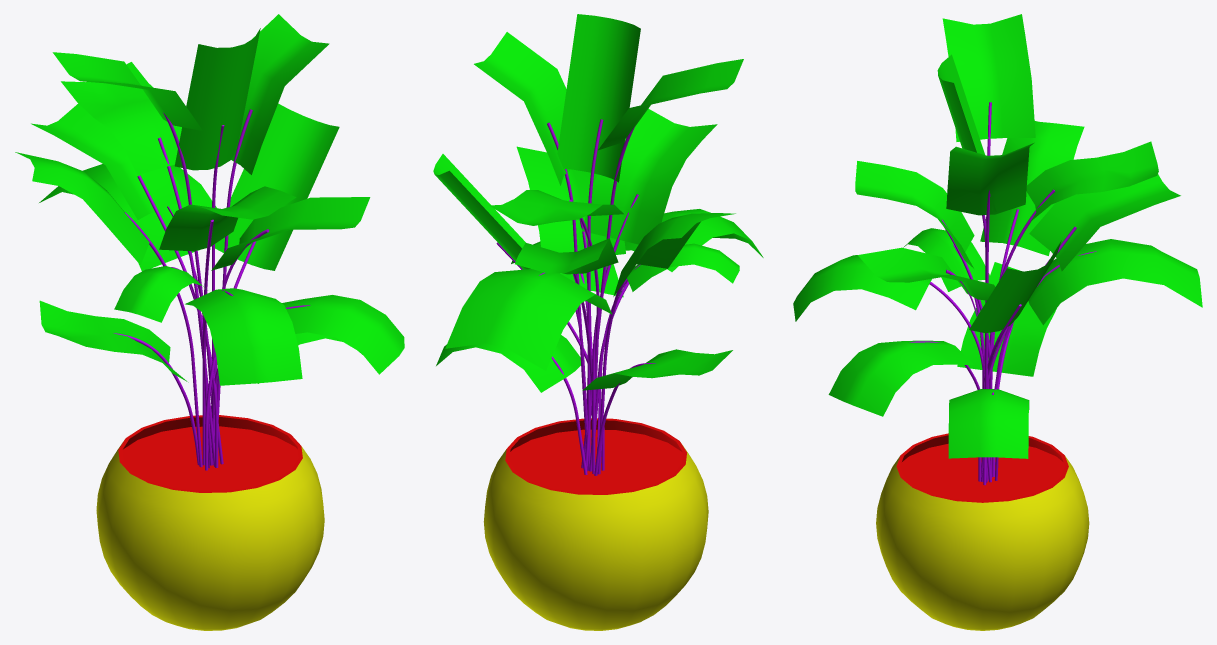
The model's file is G_Plant.fbx.
The picture shows the model from 3 angles, left to right: view 1: azimuth 30°, elevation 25°; view 2: azimuth 150°, elevation 25°; view 3: azimuth 270°, elevation 25°; orthographic projection. The views are drawn at different scales.
Visible parts, largest first — view 1: G_plant; view 2: G_plant; view 3: G_plant.
Boxes of the visible parts, bbox=[...] form: G_plant: bbox=[15, 14, 404, 630]; G_plant: bbox=[433, 14, 763, 630]; G_plant: bbox=[793, 14, 1202, 630].
Bounding box in the file's own units: 71.89 × 131 × 89.27.
